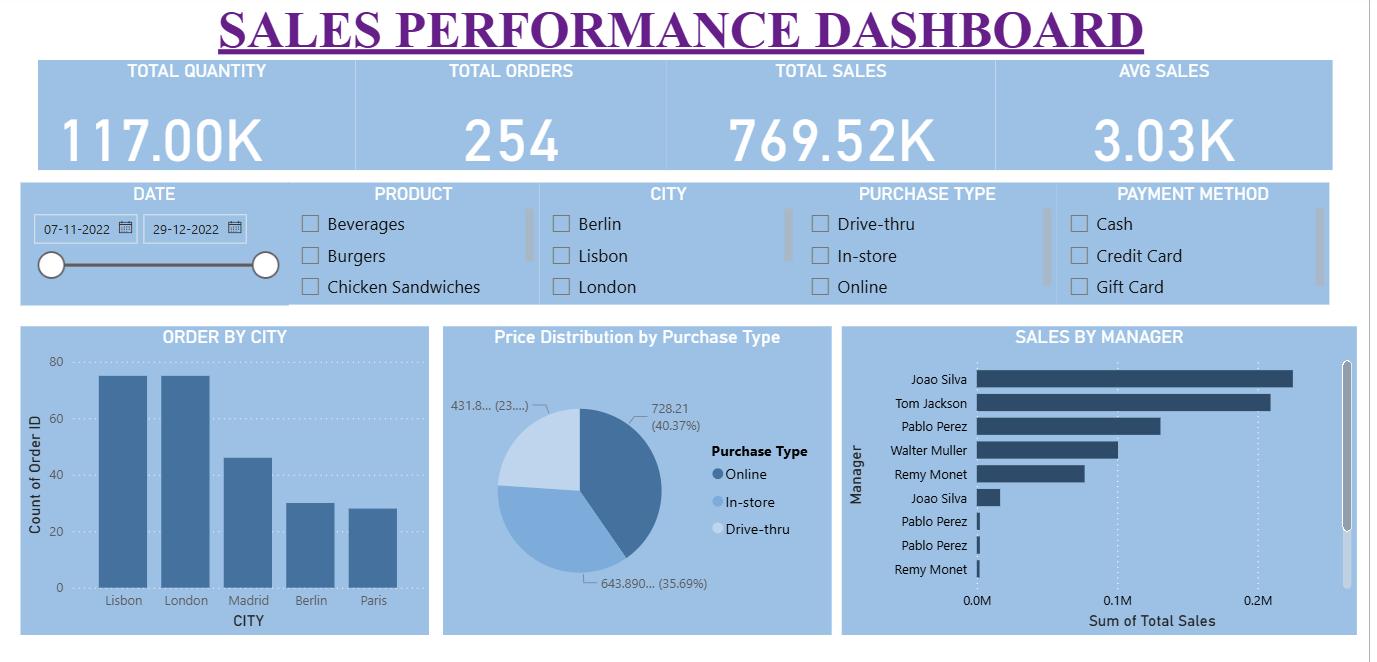

Layout of this report page (visuals, bound fields, positions):
{"tool":"powerbi","page":{"name":"Page 1","canvas":[1280,720],"ordinal":0},"visuals":[{"type":"textbox","box":[0,0,1280.2,68.6],"z":0},{"type":"cardVisual","title":"TOTAL QUANTITY","fields":{"Data":["Sum(cleaned_sales_data (2).Quantity)"]},"box":[41.9,60.5,295.3,102.3],"z":1000},{"type":"cardVisual","title":"TOTAL ORDERS","fields":{"Data":["CountNonNull(cleaned_sales_data (2).Order ID)"]},"box":[337.2,60.5,289.5,102.3],"z":2000},{"type":"cardVisual","title":"TOTAL SALES","fields":{"Data":["Sum(cleaned_sales_data (2).Total Sales)"]},"box":[626.7,60.5,305.8,102.3],"z":3000},{"type":"cardVisual","title":"AVG SALES","fields":{"Data":["Avg(cleaned_sales_data (2).Total Sales)"]},"box":[932.6,60.5,314,102.3],"z":4000},{"type":"slicer","title":"PRODUCT","fields":{"Values":["cleaned_sales_data (2).Product"]},"box":[274.4,174.4,233.7,114],"z":5000},{"type":"slicer","title":"CITY","fields":{"Values":["cleaned_sales_data (2).City"]},"box":[508.1,174.4,240.7,114],"z":6000},{"type":"slicer","title":"PURCHASE TYPE","fields":{"Values":["cleaned_sales_data (2).Purchase Type"]},"box":[748.8,174.4,240.7,114],"z":7000},{"type":"slicer","title":"PAYMENT METHOD","fields":{"Values":["cleaned_sales_data (2).Payment Method"]},"box":[989.5,174.4,253.5,114],"z":8000},{"type":"slicer","title":"DATE","fields":{"Values":["cleaned_sales_data (2).Date"]},"box":[25.6,174.4,248.8,114],"z":9000},{"type":"columnChart","title":"ORDER BY CITY","fields":{"Category":["cleaned_sales_data (2).City"],"Y":["CountNonNull(cleaned_sales_data (2).Order ID)"]},"box":[25.6,308.1,380.2,287.2],"z":9001},{"type":"pieChart","title":"Price Distribution by Purchase Type","fields":{"Category":["cleaned_sales_data (2).Purchase Type"],"Y":["Sum(cleaned_sales_data (2).Price)"]},"box":[418.6,308.1,361.6,287.2],"z":9002},{"type":"barChart","title":"SALES BY MANAGER","fields":{"Category":["cleaned_sales_data (2).Manager"],"Y":["Sum(cleaned_sales_data (2).Total Sales)"]},"box":[789.2,308.7,479.4,287.2],"z":9003}]}

Visuals, with their boxes on the page's 1280x720 design canvas (x1, y1, x2, y2). These are canvas units, not pixel positions in the 1377x662 screenshot, which may show the page scaled, cropped or inside an application window:
textbox: 0 0 1280 69
"TOTAL QUANTITY" cardVisual: 42 60 337 163
"TOTAL ORDERS" cardVisual: 337 60 627 163
"TOTAL SALES" cardVisual: 627 60 932 163
"AVG SALES" cardVisual: 933 60 1247 163
"PRODUCT" slicer: 274 174 508 288
"CITY" slicer: 508 174 749 288
"PURCHASE TYPE" slicer: 749 174 990 288
"PAYMENT METHOD" slicer: 990 174 1243 288
"DATE" slicer: 26 174 274 288
"ORDER BY CITY" columnChart: 26 308 406 595
"Price Distribution by Purchase Type" pieChart: 419 308 780 595
"SALES BY MANAGER" barChart: 789 309 1269 596
